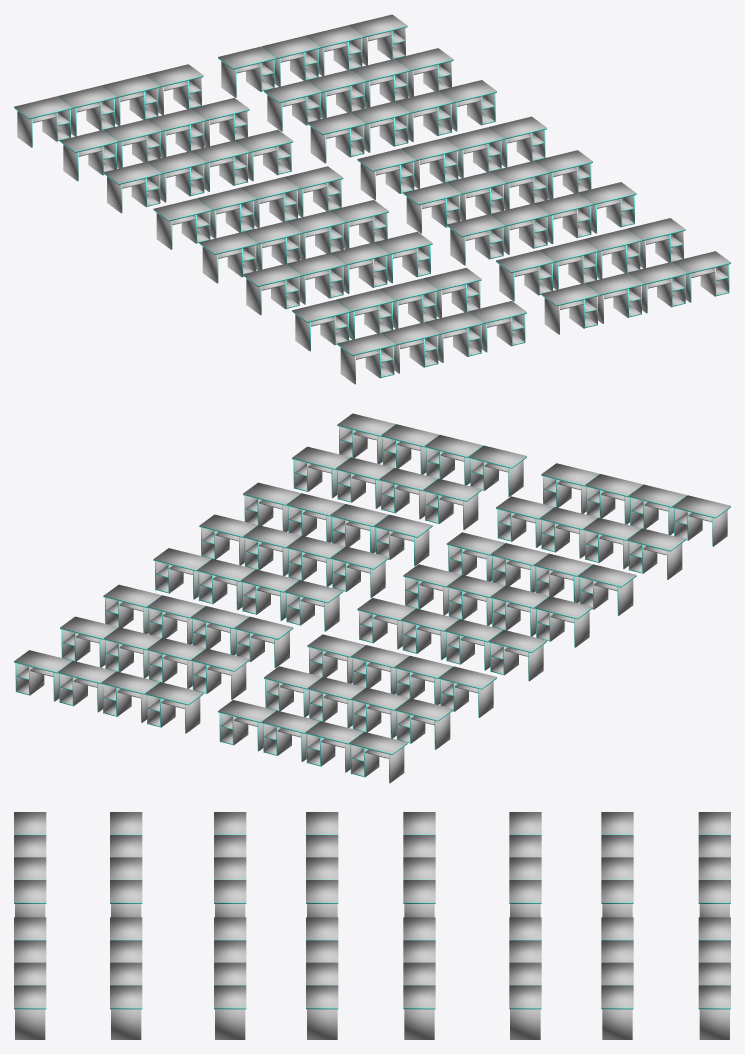
File: all_new_desk.obj
3 renders of one model, top to bottom at view 1: azimuth 30°, elevation 25°; view 2: azimuth 150°, elevation 25°; view 3: azimuth 270°, elevation 25°, orthographic. The views are drawn at different scales.
Visible parts, largest first — view 1: desk.034, desk.022, desk.030, desk.054, desk.002, desk.018, desk.046, desk.014, desk.010, desk.062, desk.042, desk.058 (+52 smaller); view 2: desk.006, desk.010, desk.026, desk.038, desk.014, desk.054, desk.022, desk.018, desk.050, desk.042, desk.058, desk.030 (+52 smaller); view 3: desk.035, desk.039, desk.055, desk.043, desk.047, desk.051, desk.059, desk.063, desk.003, desk.007, desk.019, desk.023 (+52 smaller).
Part boxes in pixels (x1,y1,x2,y2): desk.034: [307, 112, 365, 163]; desk.022: [153, 198, 211, 249]; desk.030: [337, 333, 395, 384]; desk.054: [357, 148, 415, 199]; desk.002: [103, 161, 161, 213]; desk.018: [199, 232, 257, 283]; desk.046: [446, 214, 505, 265]; desk.014: [243, 264, 301, 315]; desk.010: [14, 96, 72, 147]; desk.062: [541, 283, 599, 334]; desk.042: [218, 46, 276, 97]; desk.058: [496, 250, 554, 301]; desk.006: [395, 698, 453, 749]; desk.010: [349, 732, 407, 783]; desk.026: [627, 528, 685, 579]; desk.038: [191, 648, 249, 699]; desk.014: [578, 564, 636, 615]; desk.054: [284, 580, 343, 631]; desk.022: [488, 630, 546, 681]; desk.018: [534, 596, 592, 647]; desk.050: [330, 546, 388, 597]; desk.042: [145, 682, 203, 733]; desk.058: [423, 478, 481, 529]; desk.030: [672, 495, 730, 546]; desk.035: [509, 985, 541, 1039]; desk.039: [601, 985, 633, 1039]; desk.055: [403, 985, 435, 1039]; desk.043: [698, 985, 730, 1039]; desk.047: [214, 985, 246, 1039]; desk.051: [306, 985, 338, 1039]; desk.059: [110, 985, 142, 1039]; desk.063: [14, 985, 46, 1039]; desk.003: [509, 880, 541, 917]; desk.007: [601, 880, 633, 917]; desk.019: [306, 880, 338, 917]; desk.023: [403, 880, 435, 917].
Bounding box in the file's own units: 29.07 × 2.28 × 45.05.
